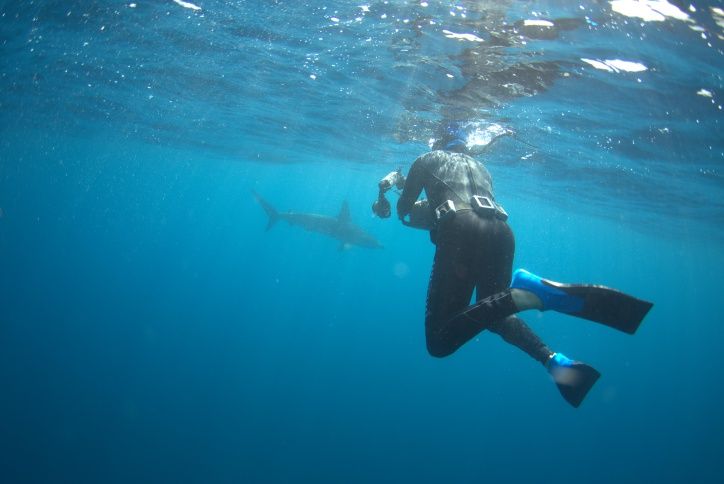Hammer: (247, 185, 398, 273)
